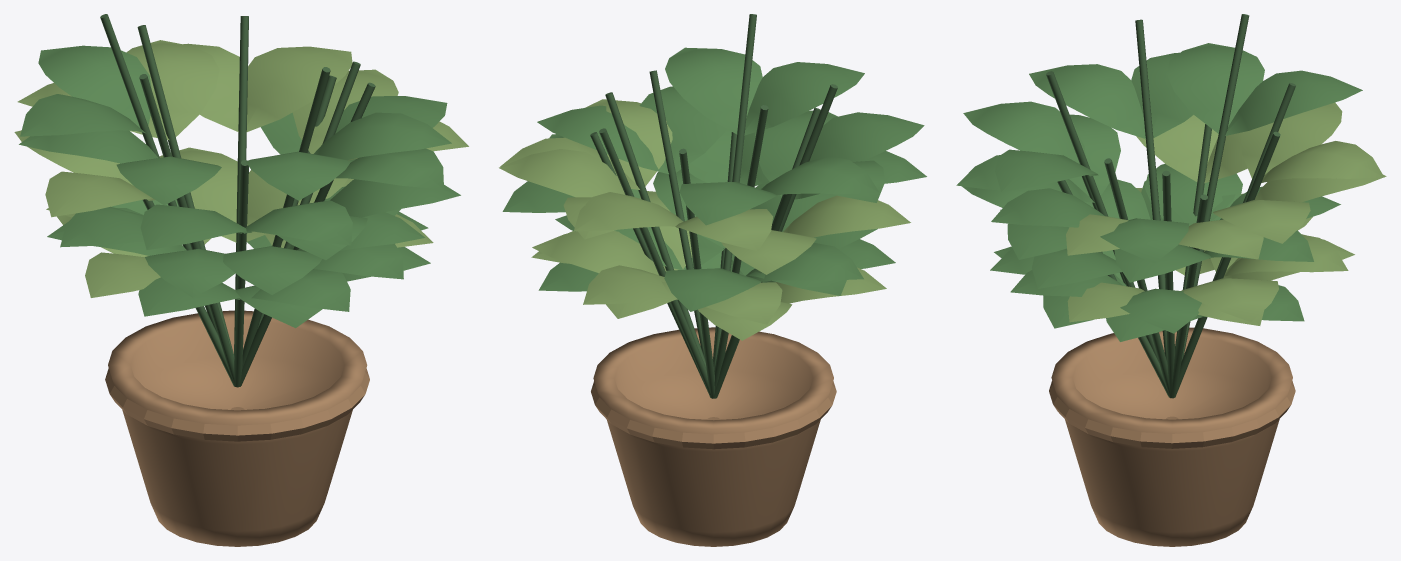
File: SM_HH_Q3_LeafPlant.fbx
3 views of the same model, side by side, from view 1: azimuth 30°, elevation 25°; view 2: azimuth 150°, elevation 25°; view 3: azimuth 270°, elevation 25° (orthographic). The views are drawn at different scales.
Parts seen in each view (by area): view 1: HH_Q3_LeafPlant; view 2: HH_Q3_LeafPlant; view 3: HH_Q3_LeafPlant.
Boxes of the visible parts, x1,y1,x2,y2 form: HH_Q3_LeafPlant: (14, 14, 468, 546); HH_Q3_LeafPlant: (499, 14, 926, 546); HH_Q3_LeafPlant: (956, 14, 1386, 546).
Bounding box in the file's own units: 0.6544 × 0.6535 × 0.788.
